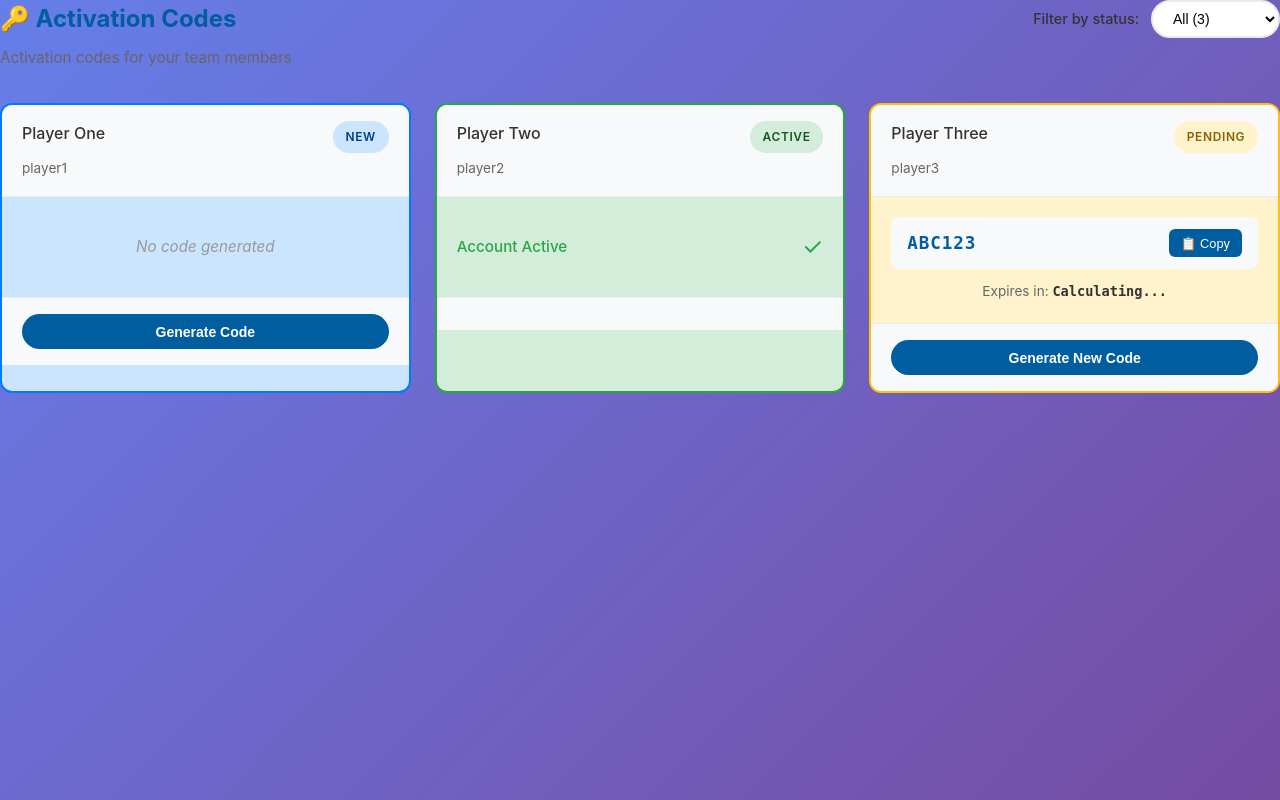
Test case: ActivationCodesTab Component › Status Filtering › should filter members by PENDING status
Expected: the text "Player Three" is shown, [891,123,988,143]
Select "Pending (1)" in the dropdown labelled "Filter by status:". click: (1216, 19)
box: [1151,0,1279,38]
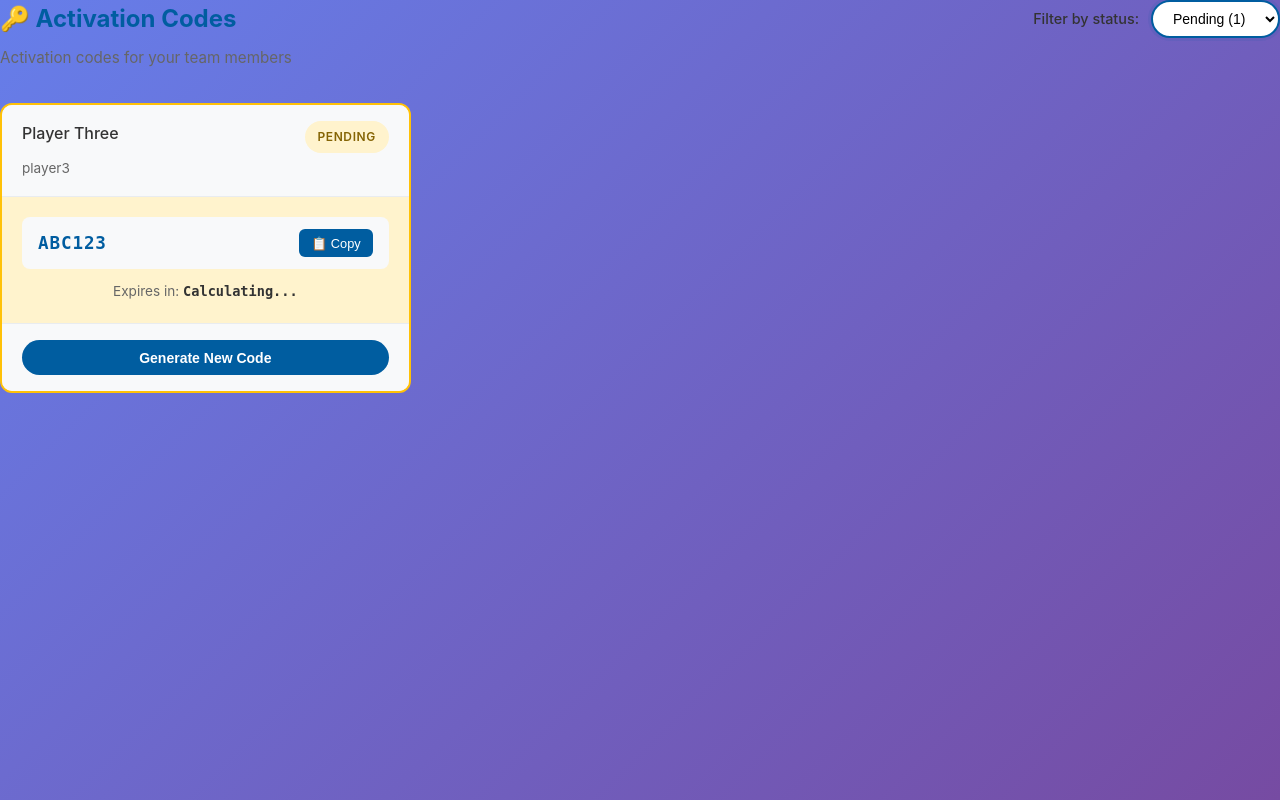
Expected: the text "Player Three" is shown, [22,123,119,143]
Expected: the text "Player One" is gone
Expected: the text "Player Two" is gone
